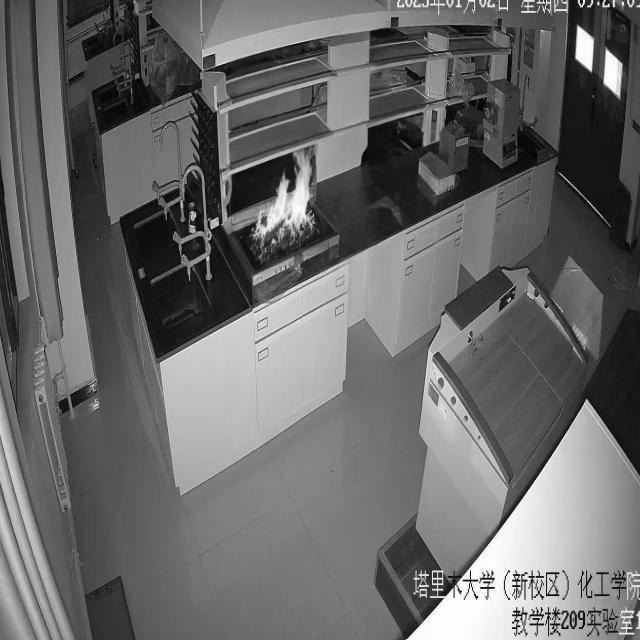smoke: (251, 146, 316, 250)
